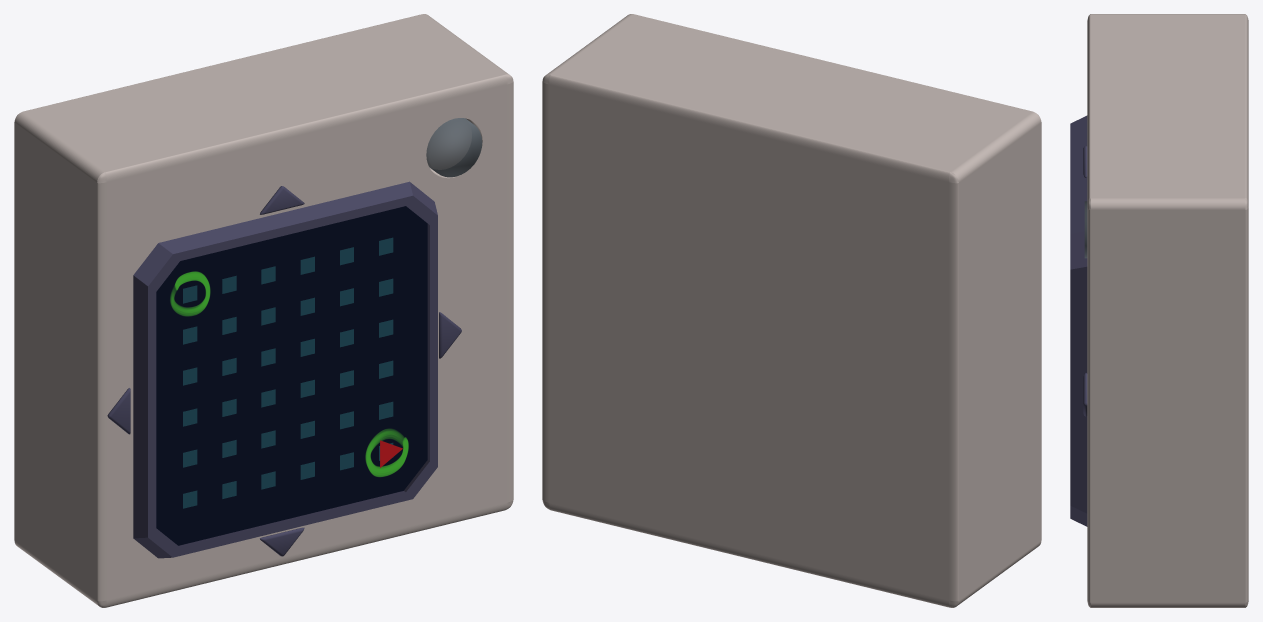
File: maze.glb
The picture shows the model from 3 angles, left to right: view 1: azimuth 30°, elevation 25°; view 2: azimuth 150°, elevation 25°; view 3: azimuth 270°, elevation 25°; orthographic projection. The views are drawn at different scales.
Parts seen in each view (by area): view 1: MazeModule, Maze.Backplate, Maze.Shell, Light.010, Maze.MarkerB, Maze.MarkerA; view 2: MazeModule; view 3: MazeModule, Maze.Shell.
Boxes of the visible parts, bbox=[...] form: MazeModule: bbox=[14, 14, 513, 607]; Maze.Backplate: bbox=[156, 206, 427, 545]; Maze.Shell: bbox=[133, 181, 437, 558]; Light.010: bbox=[426, 118, 482, 177]; Maze.MarkerB: bbox=[365, 428, 408, 476]; Maze.MarkerA: bbox=[170, 271, 210, 316]; MazeModule: bbox=[542, 14, 1041, 607]; MazeModule: bbox=[1087, 14, 1248, 607]; Maze.Shell: bbox=[1070, 115, 1087, 526].
Size of the model in its own units: 0.1761 by 0.1761 by 0.0696.
Materials: 8 (3 with a texture image).
